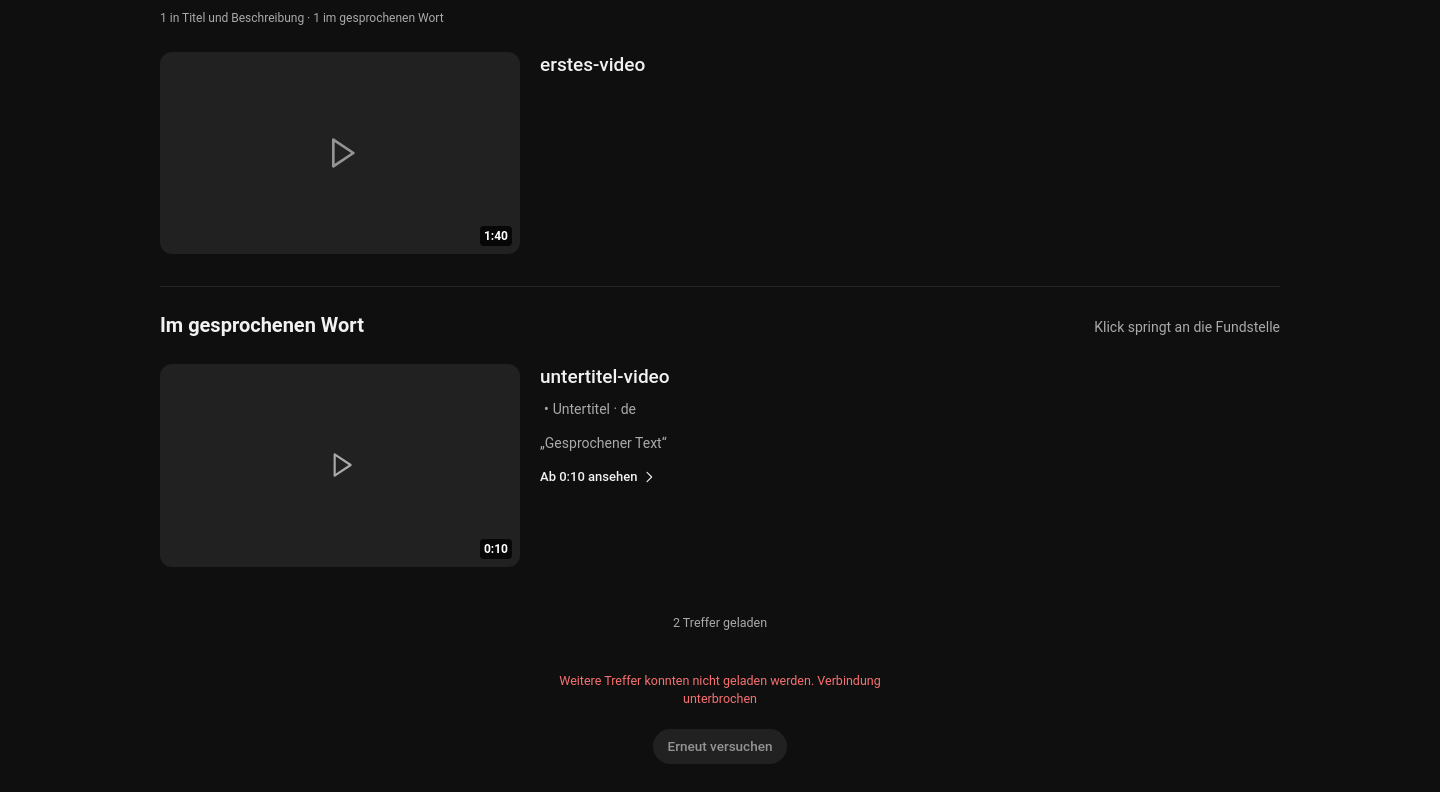
Test: lädt beim Scrollen Suchtreffer nach und lässt vorhandene Treffer bei einem Fehler bedienbar
The width and height of the screenshot is (1440, 792).
(page scrolled)
Check: the link to "/video/erstes-video" is shown, box [160,52,520,254]
Check: the link to "/video/untertitel-video?t=10" is shown, box [160,364,670,567]
Click the button "Erneut versuchen": (720, 747) [652,729,787,764]
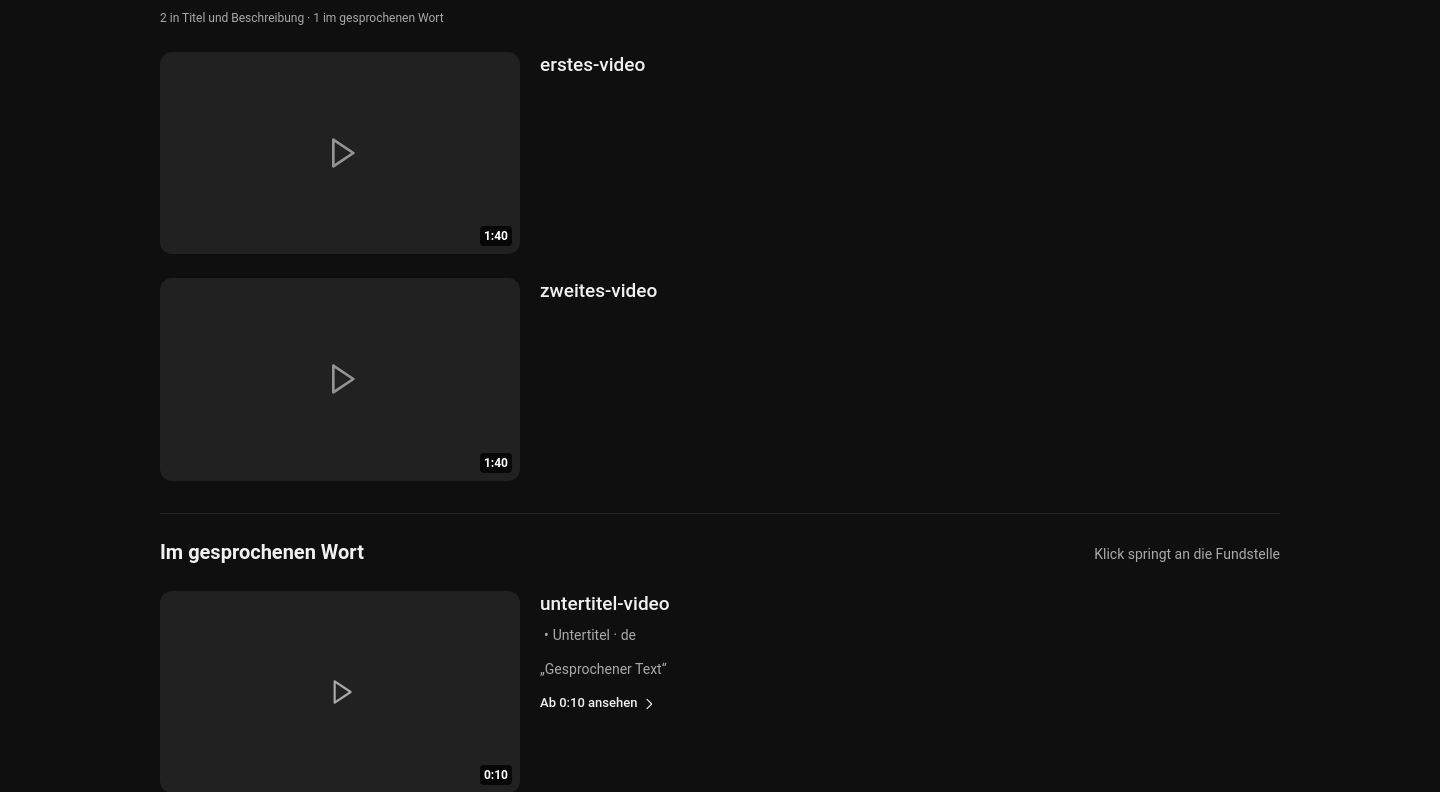
Check: the link to "/video/zweites-video" is shown, box [160,278,520,481]
